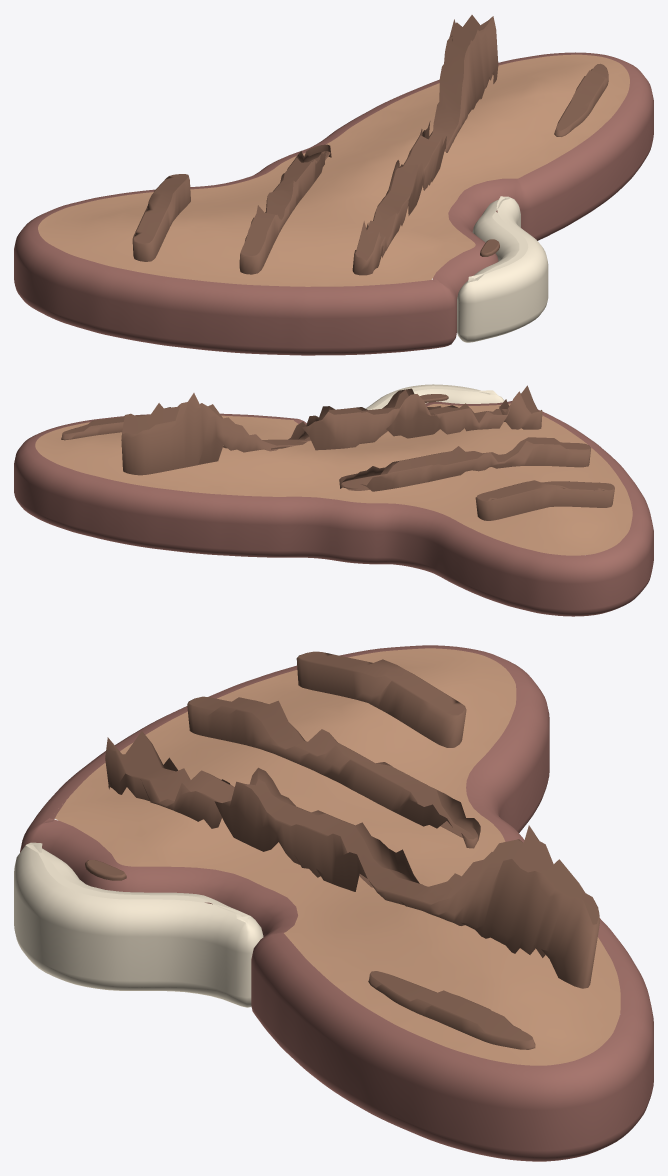
The model's file is PrimeCutTriTip.glb.
3 renders of one model, top to bottom at view 1: azimuth 30°, elevation 25°; view 2: azimuth 150°, elevation 25°; view 3: azimuth 270°, elevation 25°, orthographic. The views are drawn at different scales.
Parts seen in each view (by area): view 1: Meat, Crust, Marks, Fat; view 2: Crust, Meat, Marks, Fat; view 3: Meat, Crust, Marks, Fat.
Boxes of the visible parts, left/top/right/bottom form: Meat: left=38, top=54, right=629, bottom=286; Crust: left=14, top=52, right=653, bottom=355; Marks: left=132, top=15, right=608, bottom=275; Fat: left=457, top=196, right=548, bottom=342; Crust: left=14, top=401, right=653, bottom=616; Meat: left=35, top=403, right=632, bottom=555; Marks: left=61, top=385, right=614, bottom=520; Fat: left=365, top=384, right=504, bottom=409; Meat: left=55, top=648, right=620, bottom=1065; Crust: left=20, top=645, right=653, bottom=1161; Marks: left=85, top=651, right=599, bottom=1049; Fat: left=14, top=842, right=263, bottom=1007.
Bounding box in the file's own units: 15.76 × 3.51 × 9.57.
